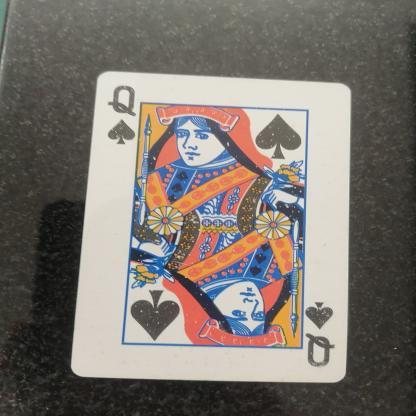QS: (100, 77, 149, 150), (303, 295, 341, 371)
